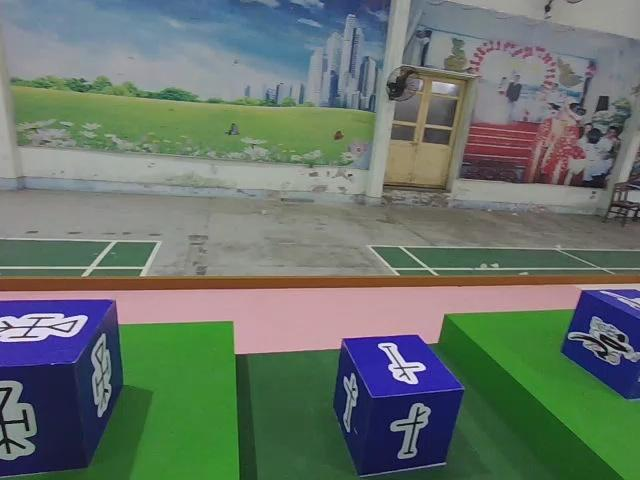R1 Blue: (561, 288, 640, 400)
R2 Real Blue: (0, 298, 123, 478), (335, 335, 466, 478)
